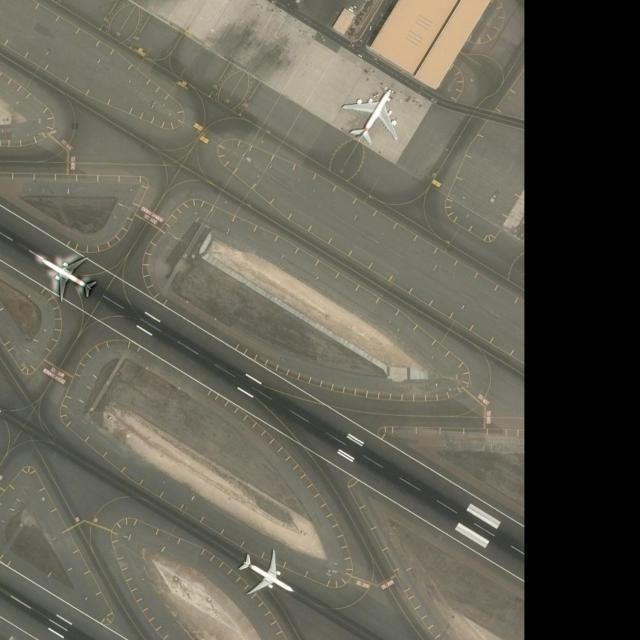Aircraft: (339, 82, 401, 151), (31, 251, 100, 302), (235, 552, 296, 603)
